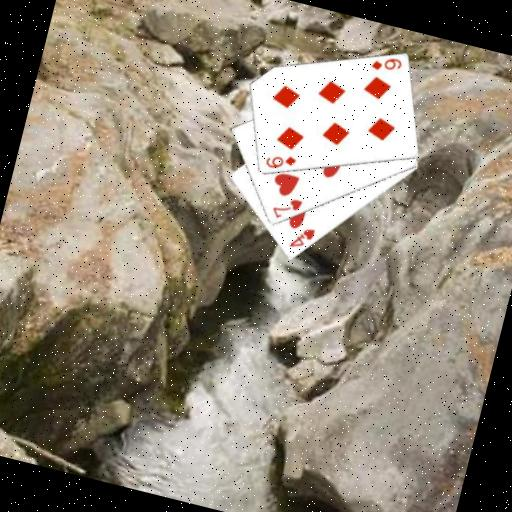4H: (286, 221, 318, 254)
6D: (262, 147, 299, 175), (368, 50, 405, 78)
7H: (267, 192, 305, 226)
